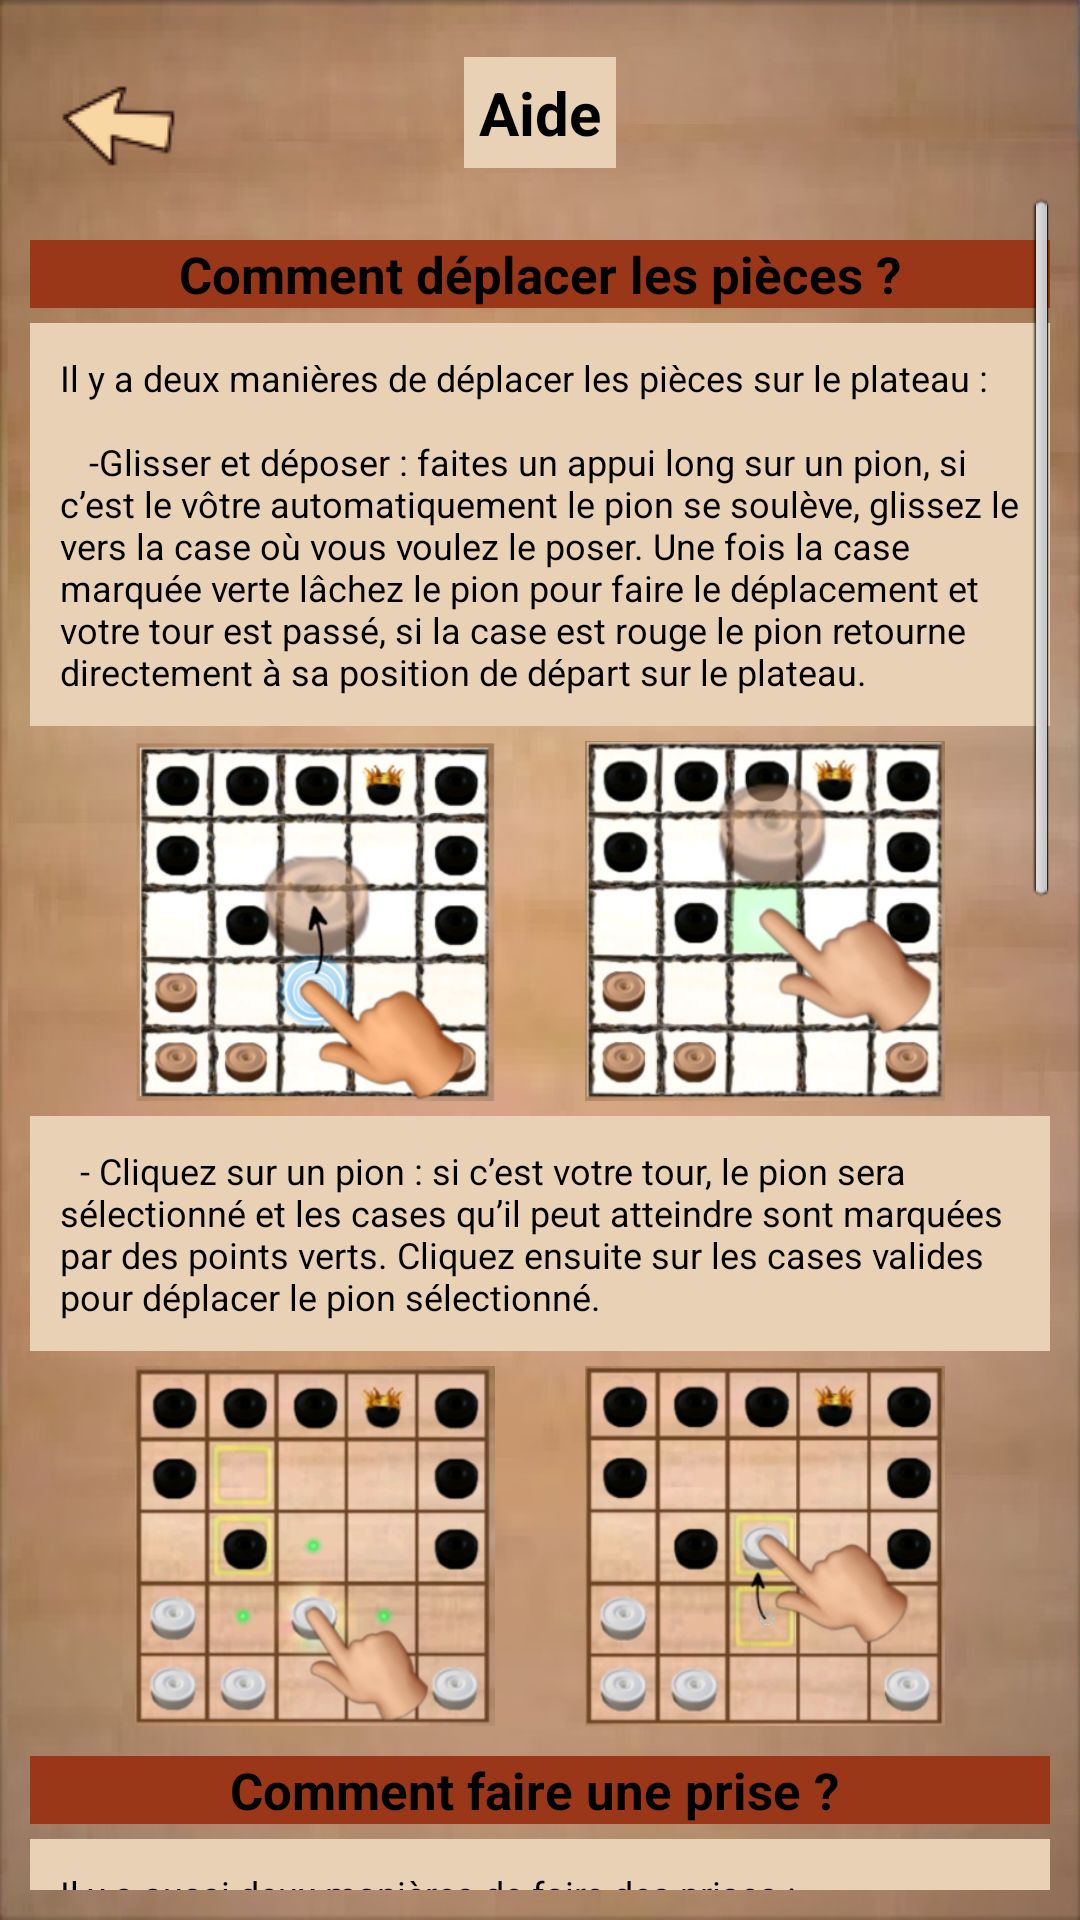

Icons on this 1080 × 1920 Android screen, each with its box as Rect(x1, y1, x2, y2):
deplacer dd: Rect(585, 741, 945, 1101), Rect(137, 744, 494, 1101)
retour: Rect(62, 86, 175, 166)
